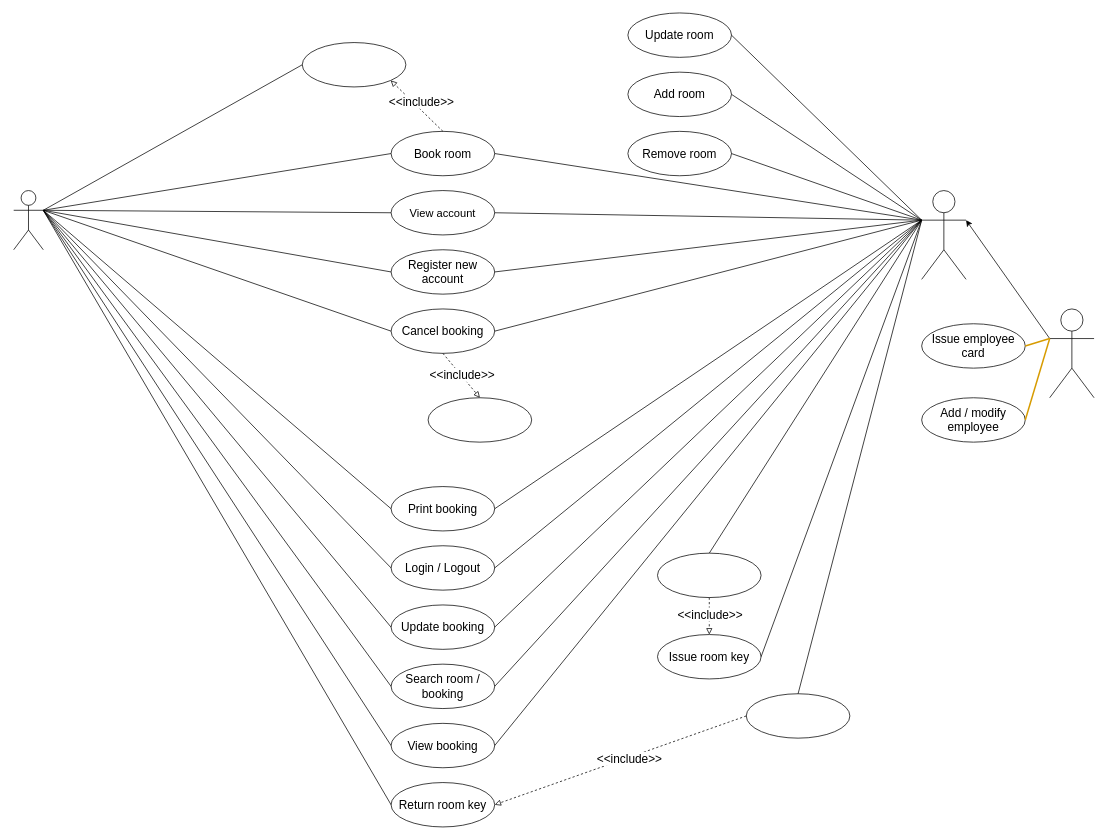
The diagram is 1108 pixels wide and 840 high, and some of its shapes have lost their labels. The box of each missing label's shape, as (x1, y1, x2, y2) in pixels:
Check in guest: (657, 552, 761, 598)
Check out guest: (746, 693, 850, 738)
Guest: (13, 190, 43, 250)
Manager: (1049, 308, 1094, 398)
Payment: (302, 42, 406, 87)
Receptionist: (921, 190, 966, 279)
Refund payment: (427, 397, 532, 442)
